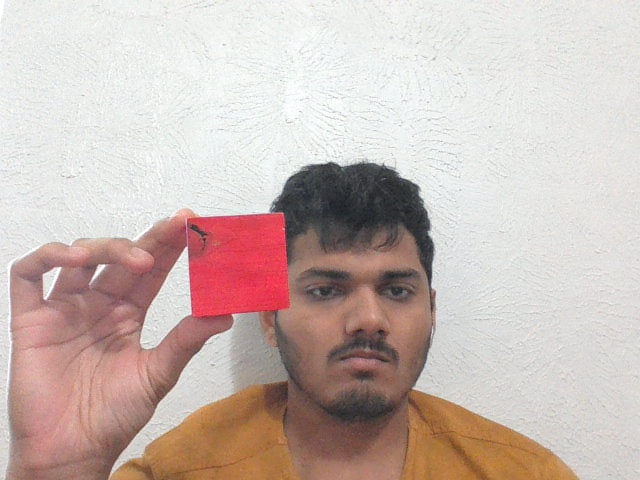RedBlock: (186, 212, 292, 316)
